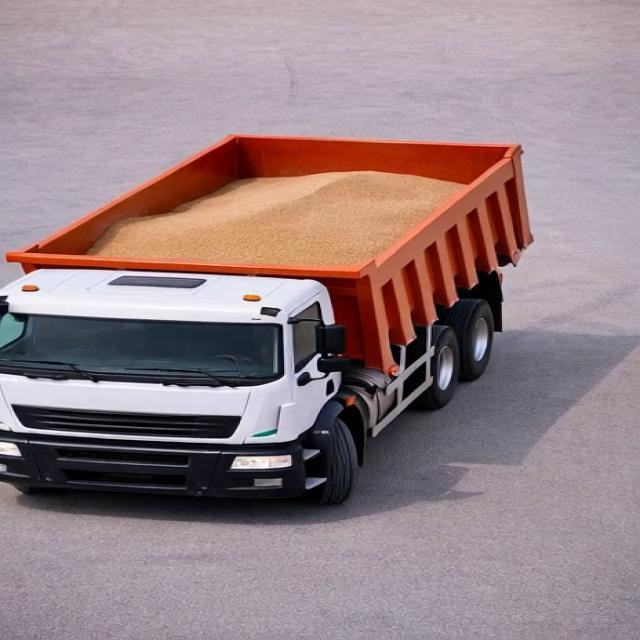trailer: (0, 134, 523, 264)
truck: (3, 127, 572, 507)
